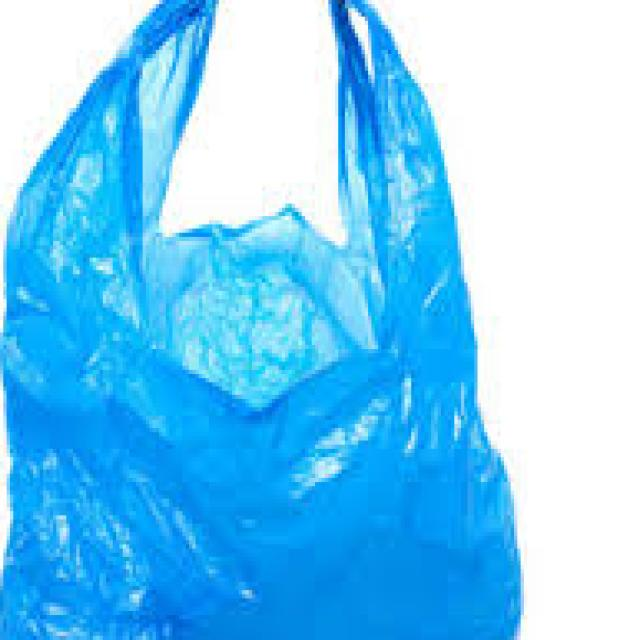organic: (13, 12, 551, 625)
